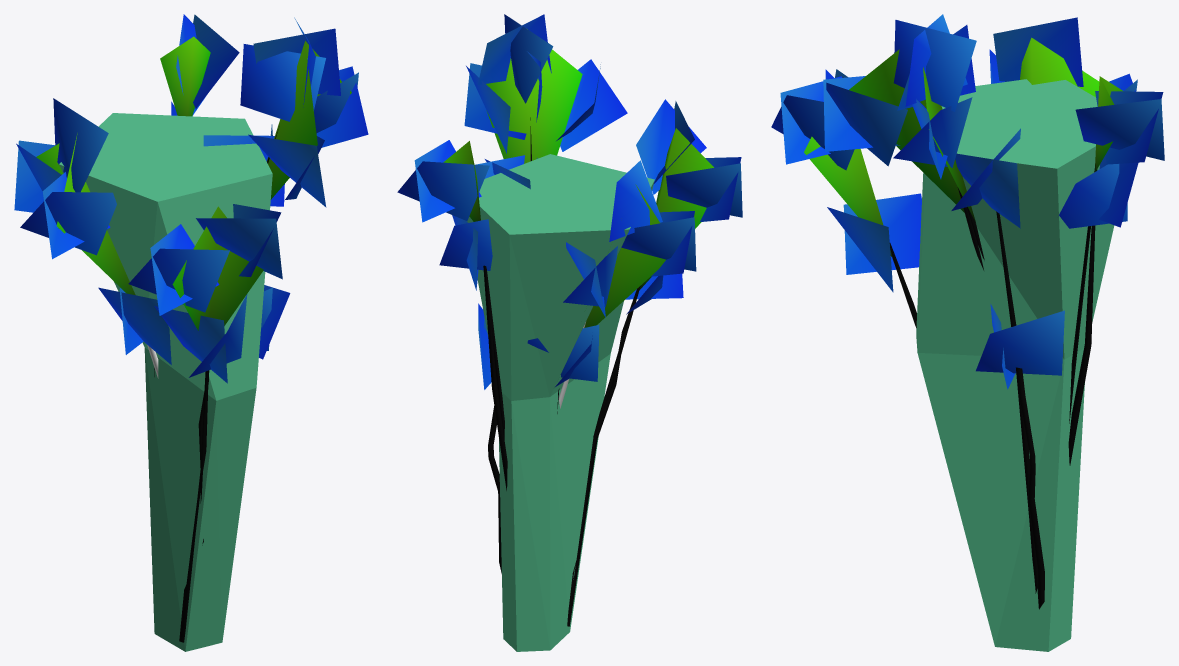
The model's file is tree_aspen_small_low_group.dae.
3 renders of one model, left to right at view 1: azimuth 30°, elevation 25°; view 2: azimuth 150°, elevation 25°; view 3: azimuth 270°, elevation 25°, orthographic. The views are drawn at different scales.
Visible parts, largest first — view 1: Colmesh-1, tree_oak_bush_a220, tree_oak_bush_a530; view 2: Colmesh-1, tree_oak_bush_a220, tree_oak_bush_a530; view 3: Colmesh-1, tree_oak_bush_a220, tree_oak_bush_a530.
Part boxes in pixels (box(x1,y1,x2,y2)): Colmesh-1: box(59, 113, 272, 651); tree_oak_bush_a220: box(14, 14, 368, 642); tree_oak_bush_a530: box(36, 36, 351, 636); Colmesh-1: box(467, 154, 654, 651); tree_oak_bush_a220: box(397, 14, 742, 623); tree_oak_bush_a530: box(443, 29, 713, 626); Colmesh-1: box(916, 79, 1114, 651); tree_oak_bush_a220: box(771, 14, 1164, 593); tree_oak_bush_a530: box(804, 37, 1123, 609).
Bounding box in the file's own units: 3.32 × 3.81 × 6.91.
